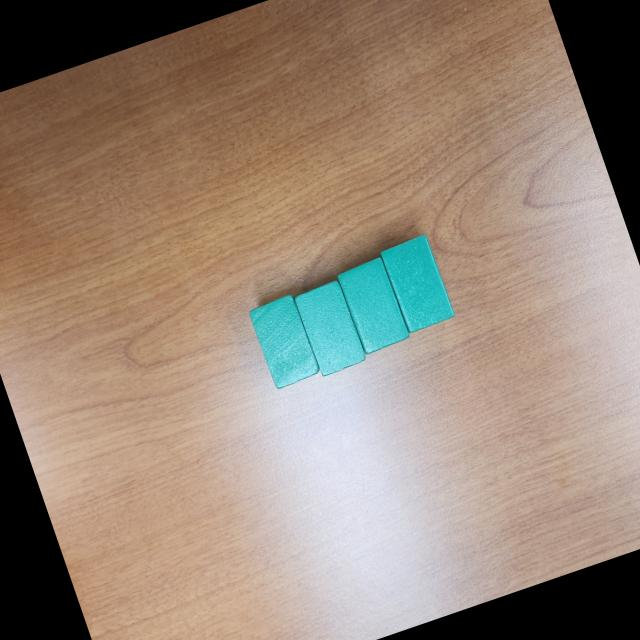green: (378, 234, 456, 336), (334, 255, 412, 357), (246, 291, 322, 391), (292, 278, 368, 378)
